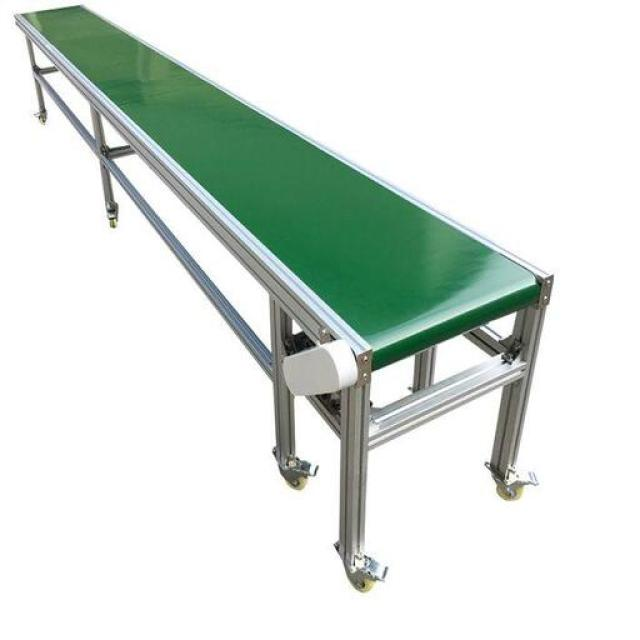conveyor: (10, 1, 556, 594)
